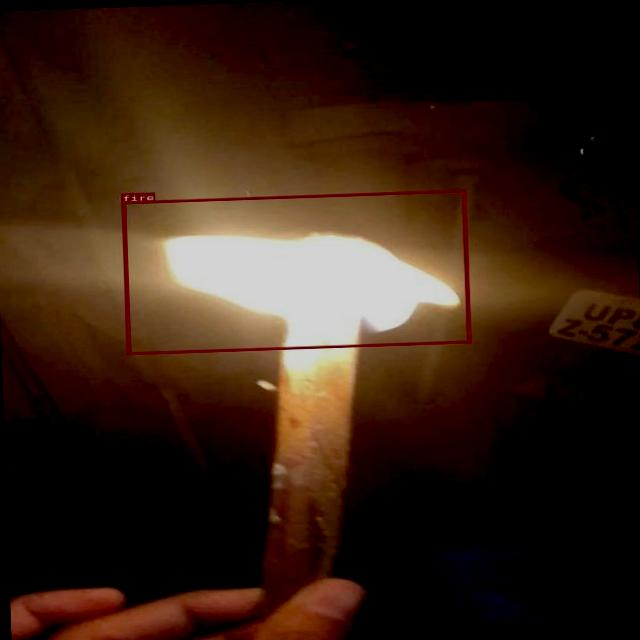fire: (120, 189, 470, 354)
